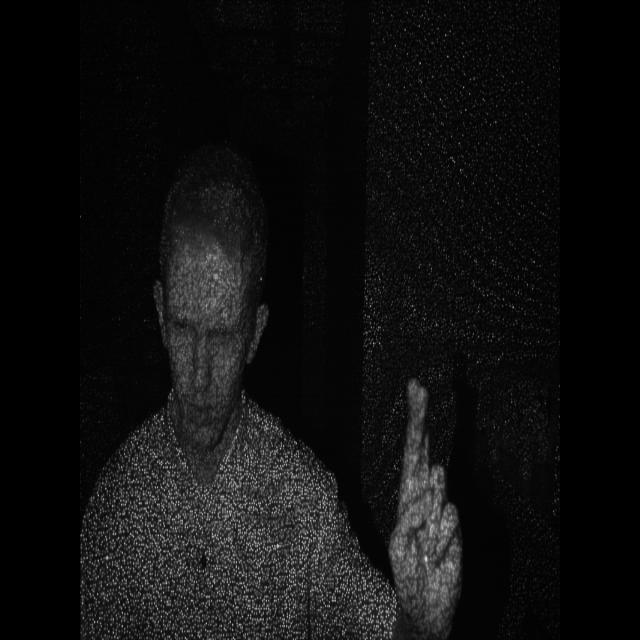R: (386, 360, 466, 610)
